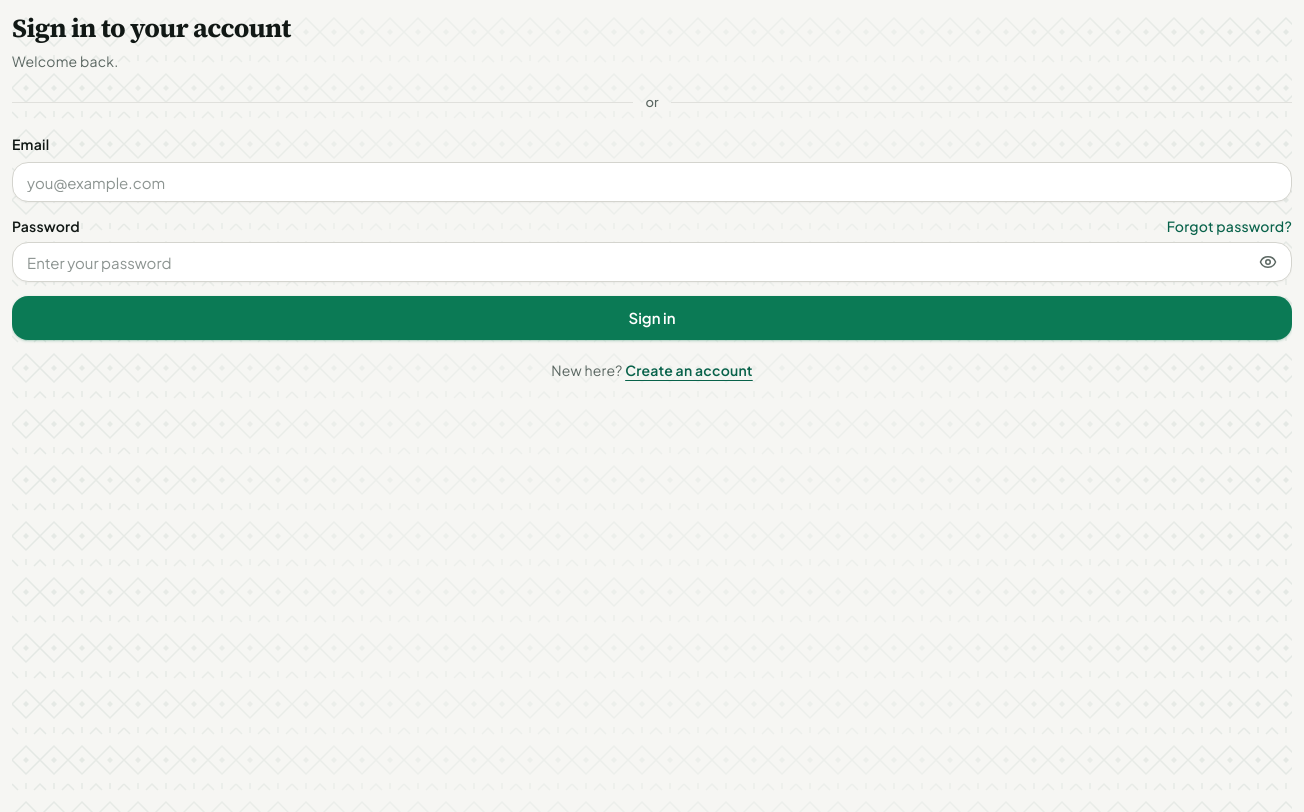
Test: LoginPage › shows the resend-confirmation prompt when the API returns email_not_confirmed
Type "unconfirmed@example.com" into the field labelled "Email". click: x=652, y=182
box: [12,162,1292,202]
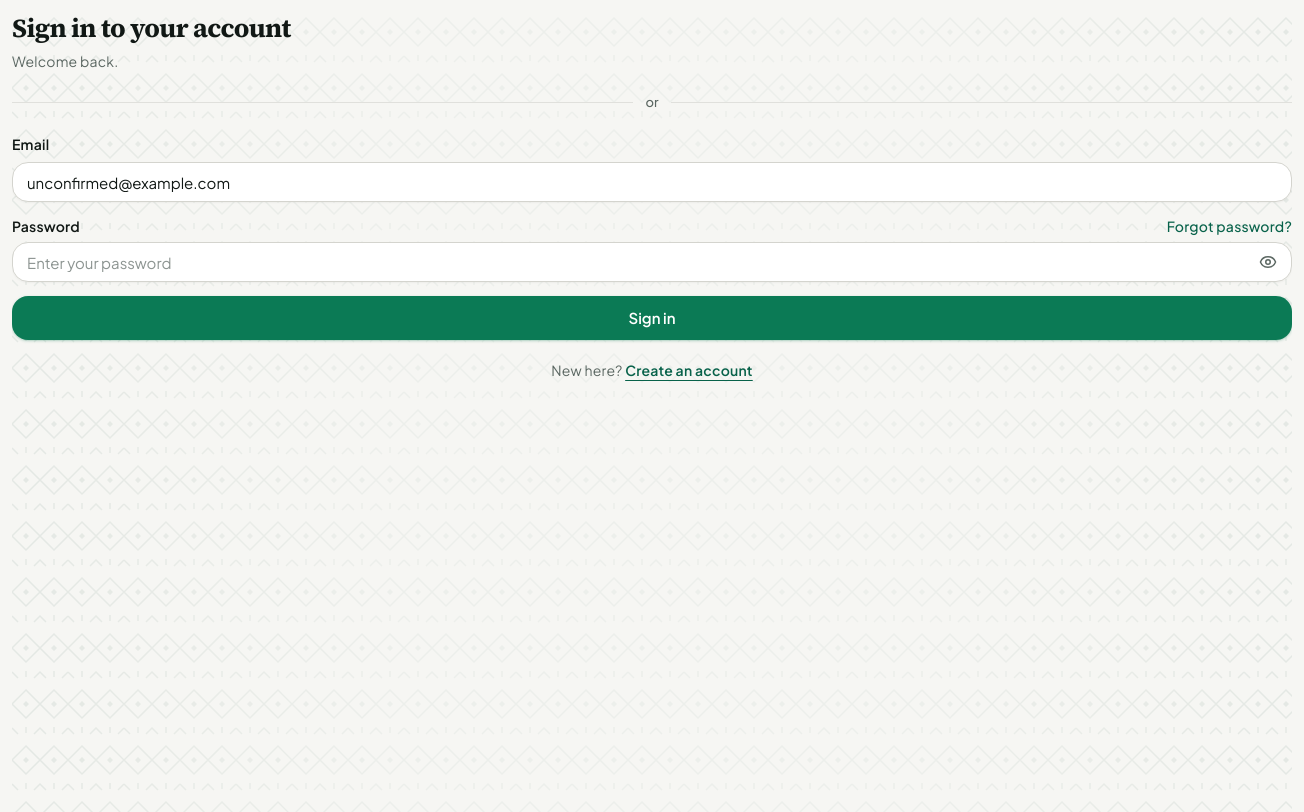
Type "CorrectPass1" into the password field labelled "Password". click: x=652, y=262
box: [12,242,1292,282]
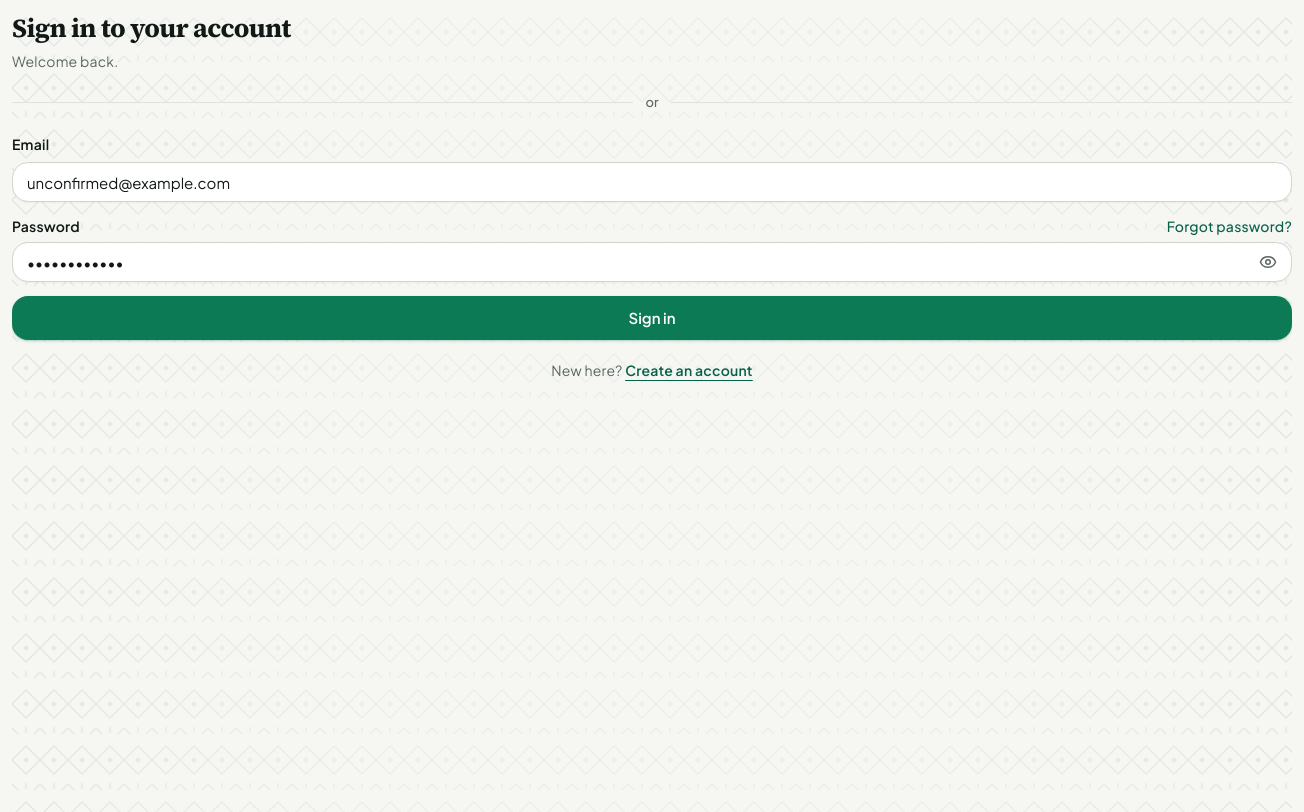
Click the button "Sign in". click: x=652, y=318
box: [12,296,1292,340]
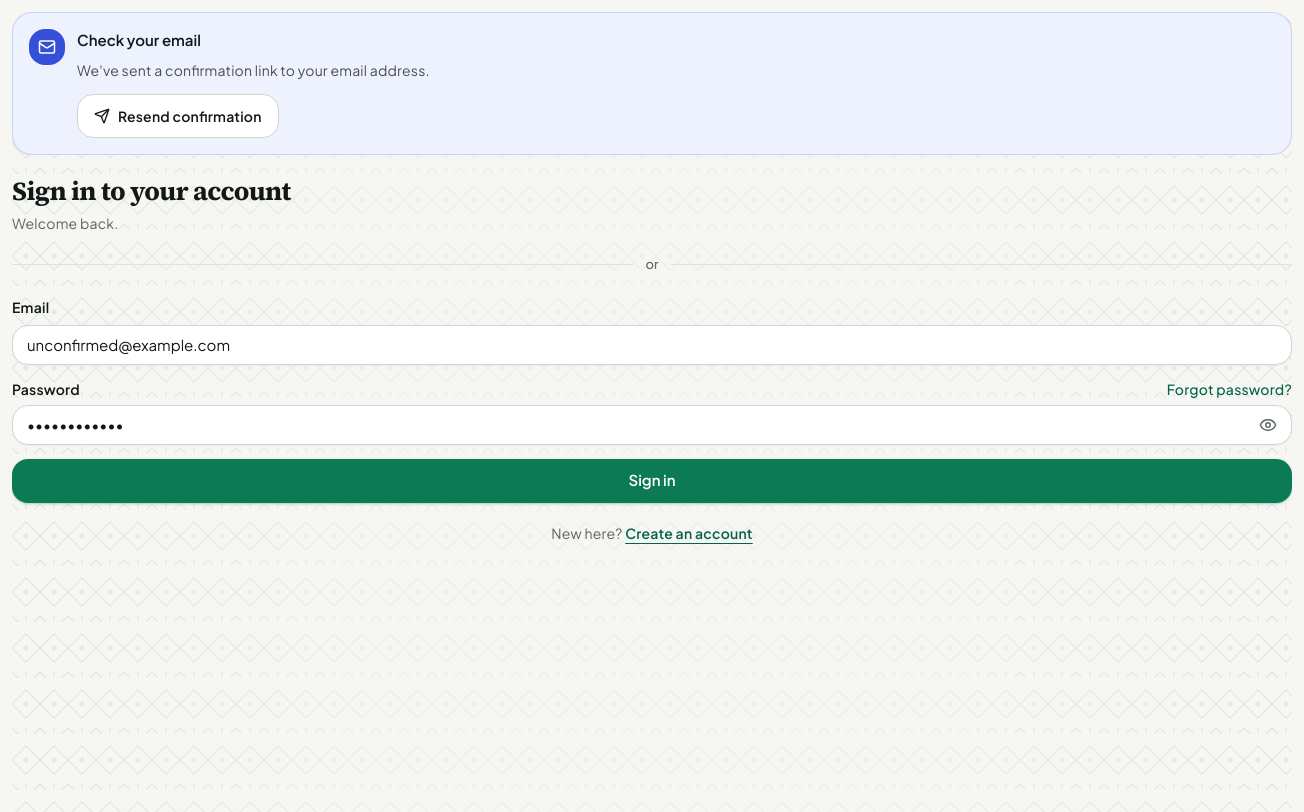
Now the text "Check your email" is shown, box [77,30,201,49]
Now the button "Resend confirmation" is shown, box [77,94,279,138]
